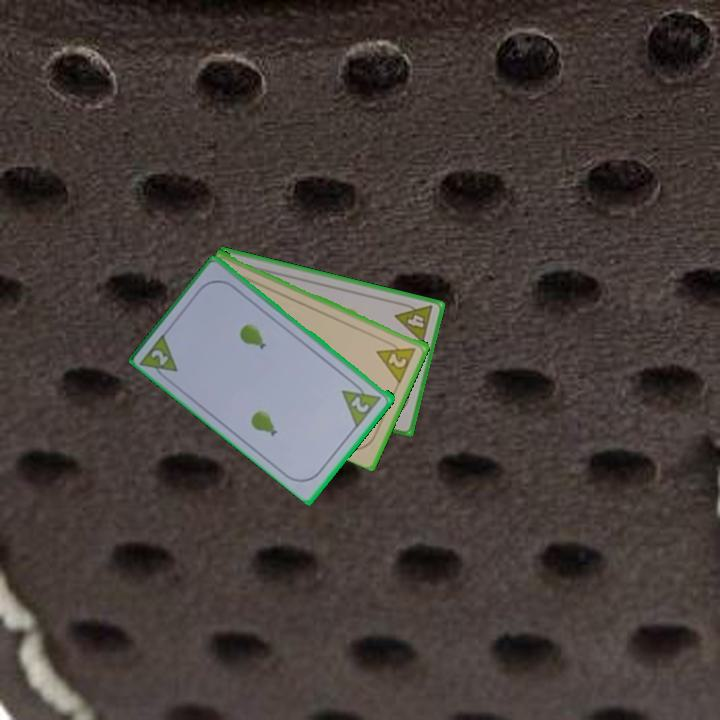2p: (339, 376, 385, 429), (373, 337, 419, 385), (148, 346, 172, 369)
4p: (392, 298, 436, 346)
